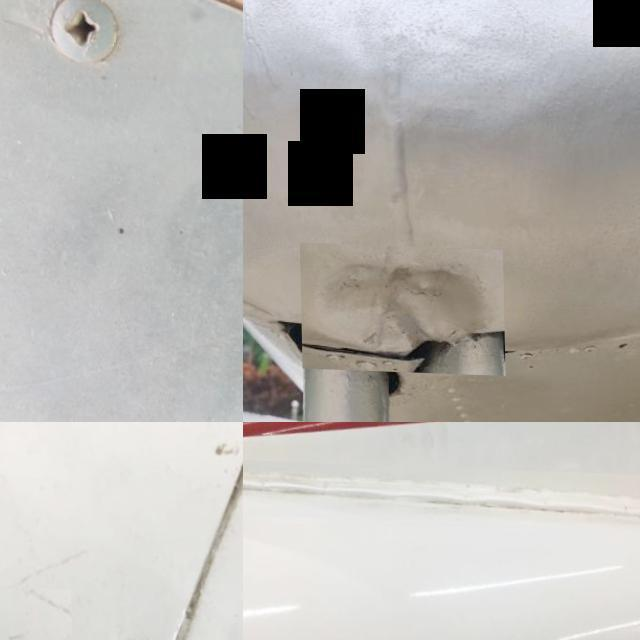Crack: (243, 457, 640, 525)
Dent: (298, 240, 504, 372)
